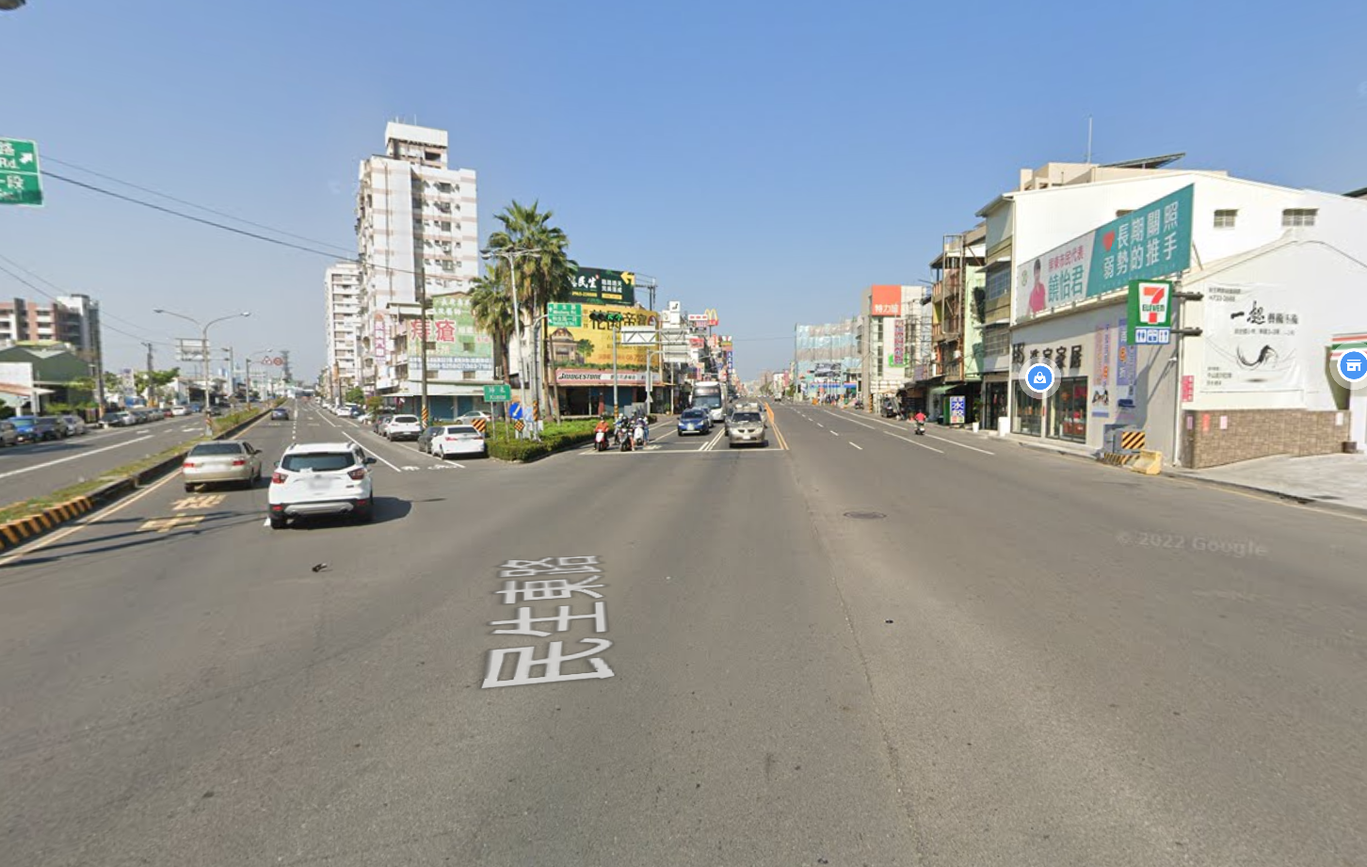green: (587, 308, 625, 324)
